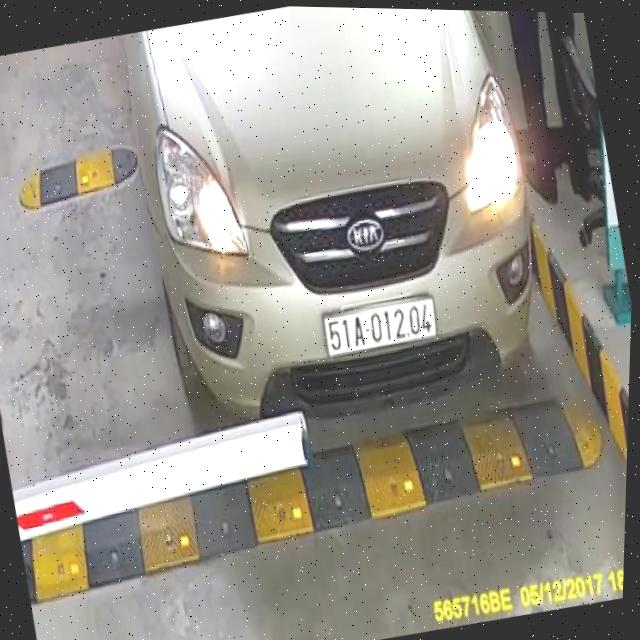car: (99, 2, 577, 462)
plate: (318, 285, 445, 365)
